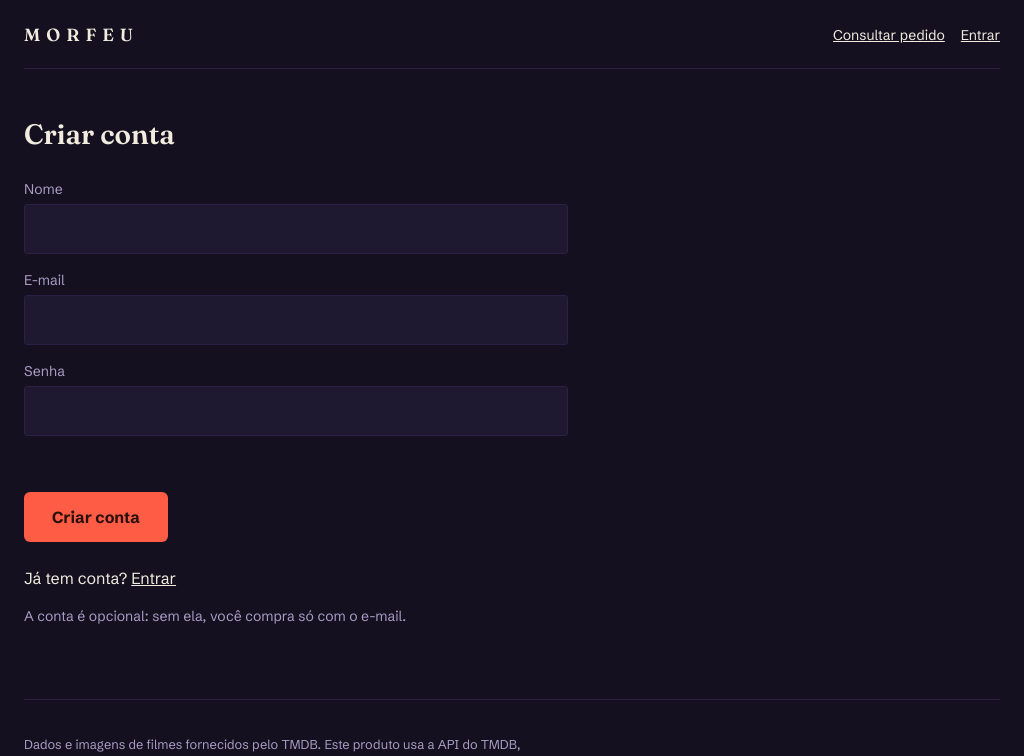
Test: login e cadastro › cadastro recusado mostra o motivo por campo e o 429
Type "Ana" into the field labelled "Nome".
click(296, 229); type("Ana")  # box left=24, top=204, right=568, bottom=254
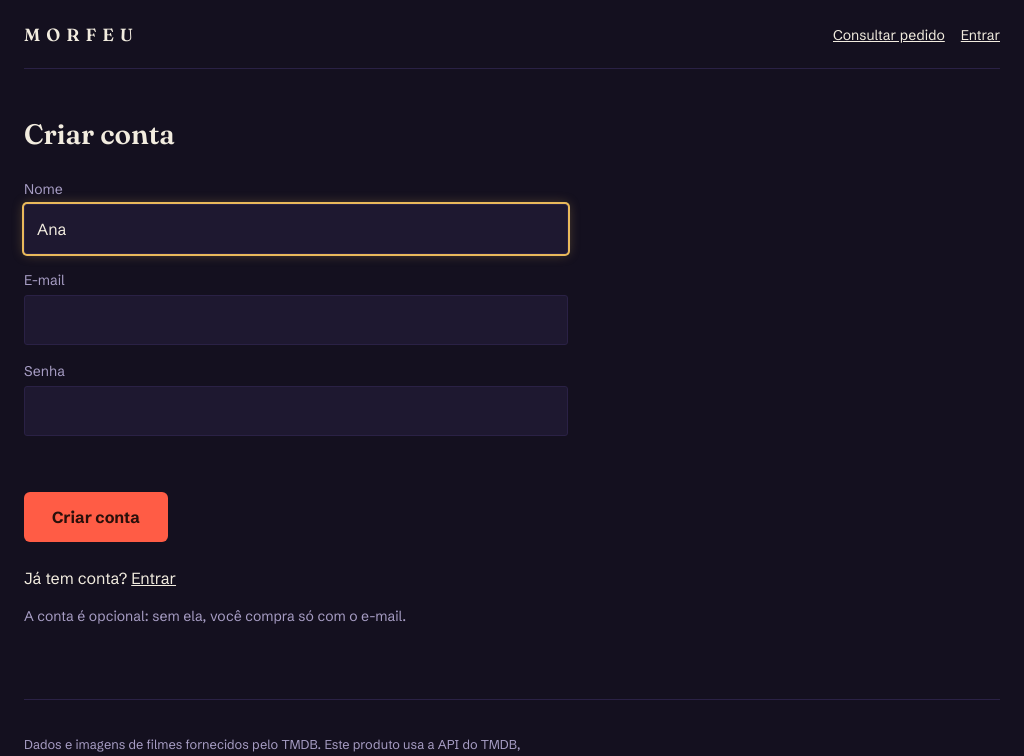
Type "ana@exemplo.com" into the field labelled "E-mail".
click(296, 320); type("ana@exemplo.com")  # box left=24, top=295, right=568, bottom=345
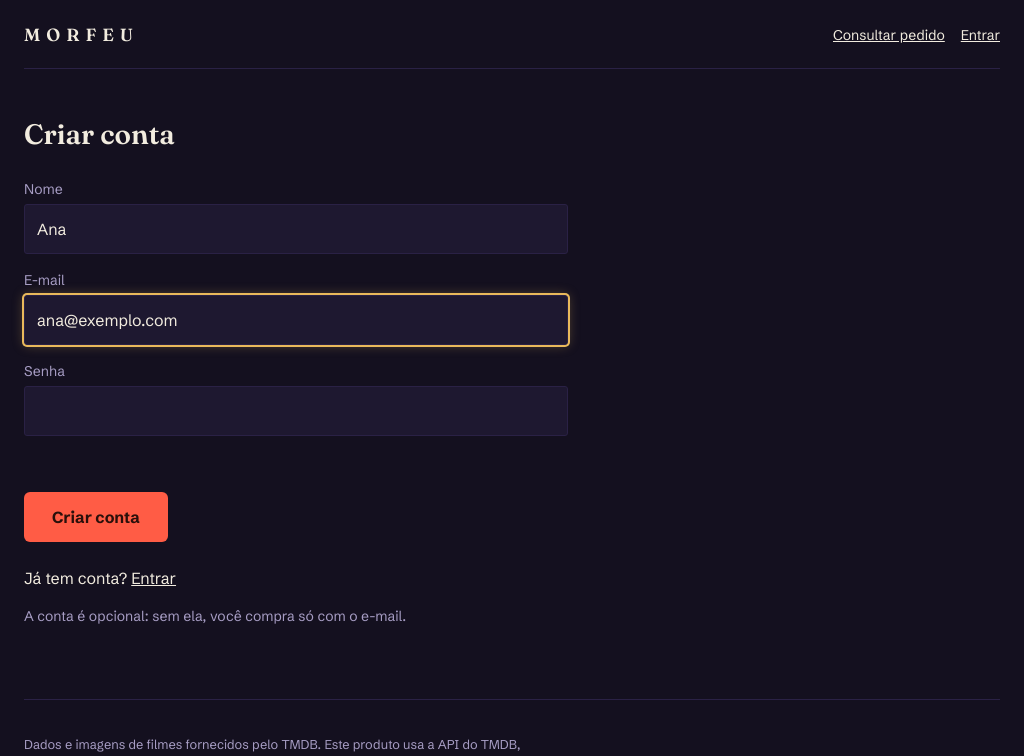
Type "12345678" into the password field labelled "Senha".
click(296, 411); type("12345678")  # box left=24, top=386, right=568, bottom=436
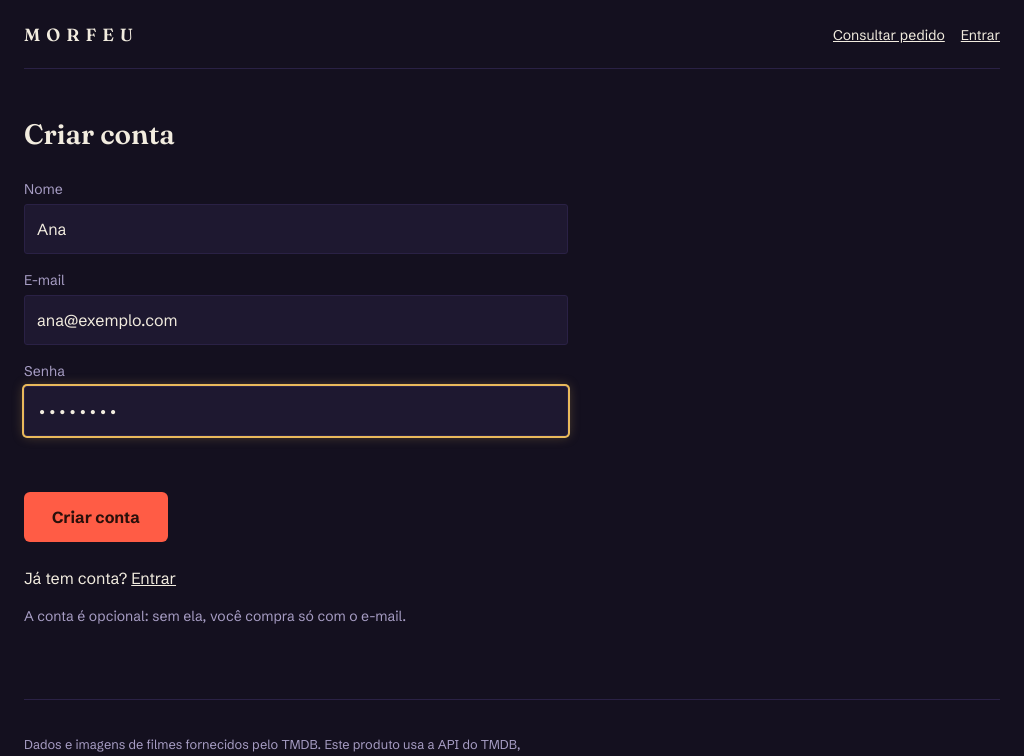
Click the button "Criar conta".
click(96, 517)  # box left=24, top=492, right=168, bottom=542
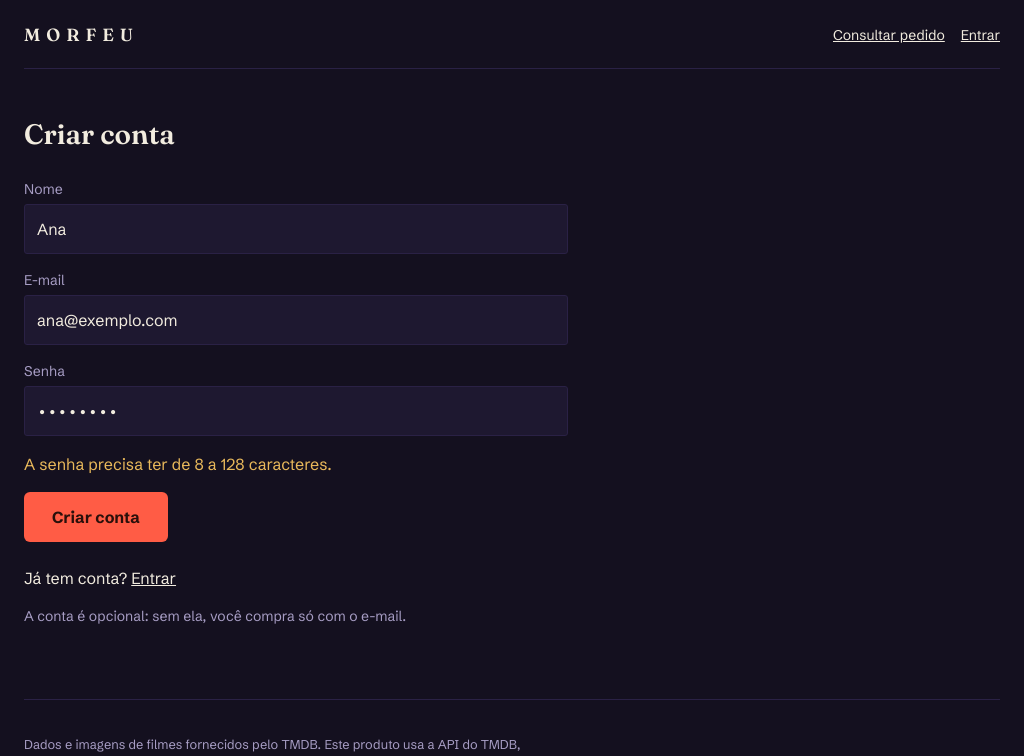
Check: the message reads "A senha precisa ter de 8 a 128 caracteres.", box left=24, top=454, right=332, bottom=474
Click the button "Criar conta".
click(96, 517)  # box left=24, top=492, right=168, bottom=542
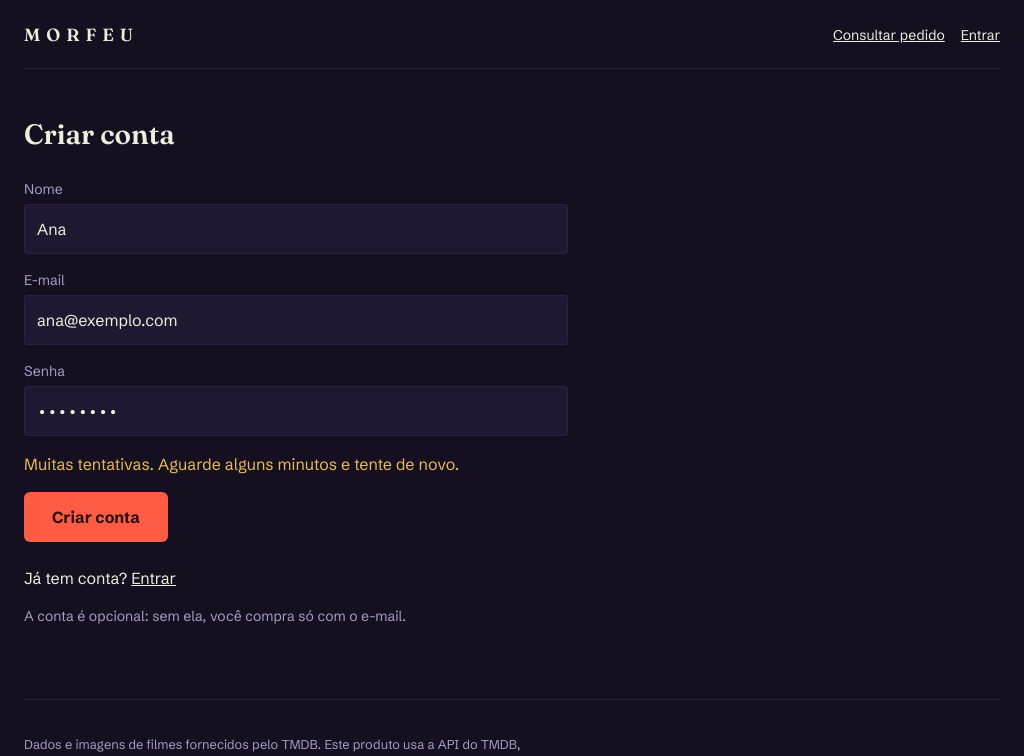
Check: the message shows "Muitas tentativas.", box left=24, top=454, right=459, bottom=474
